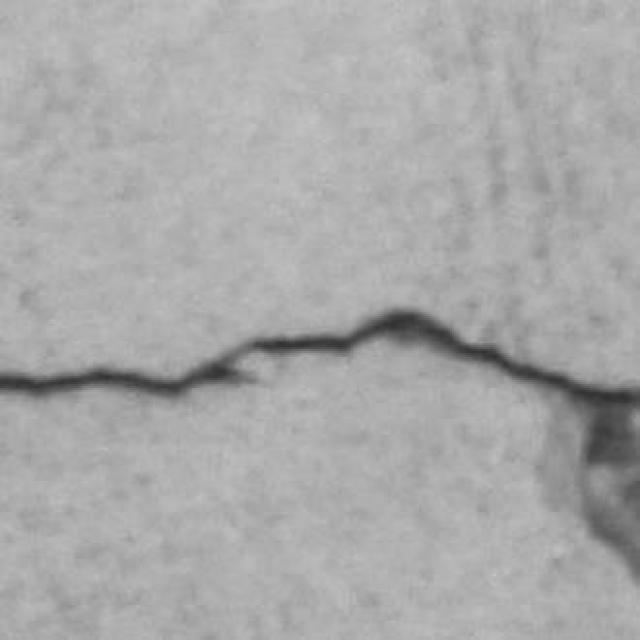crack: (0, 309, 639, 405), (580, 405, 636, 576)
